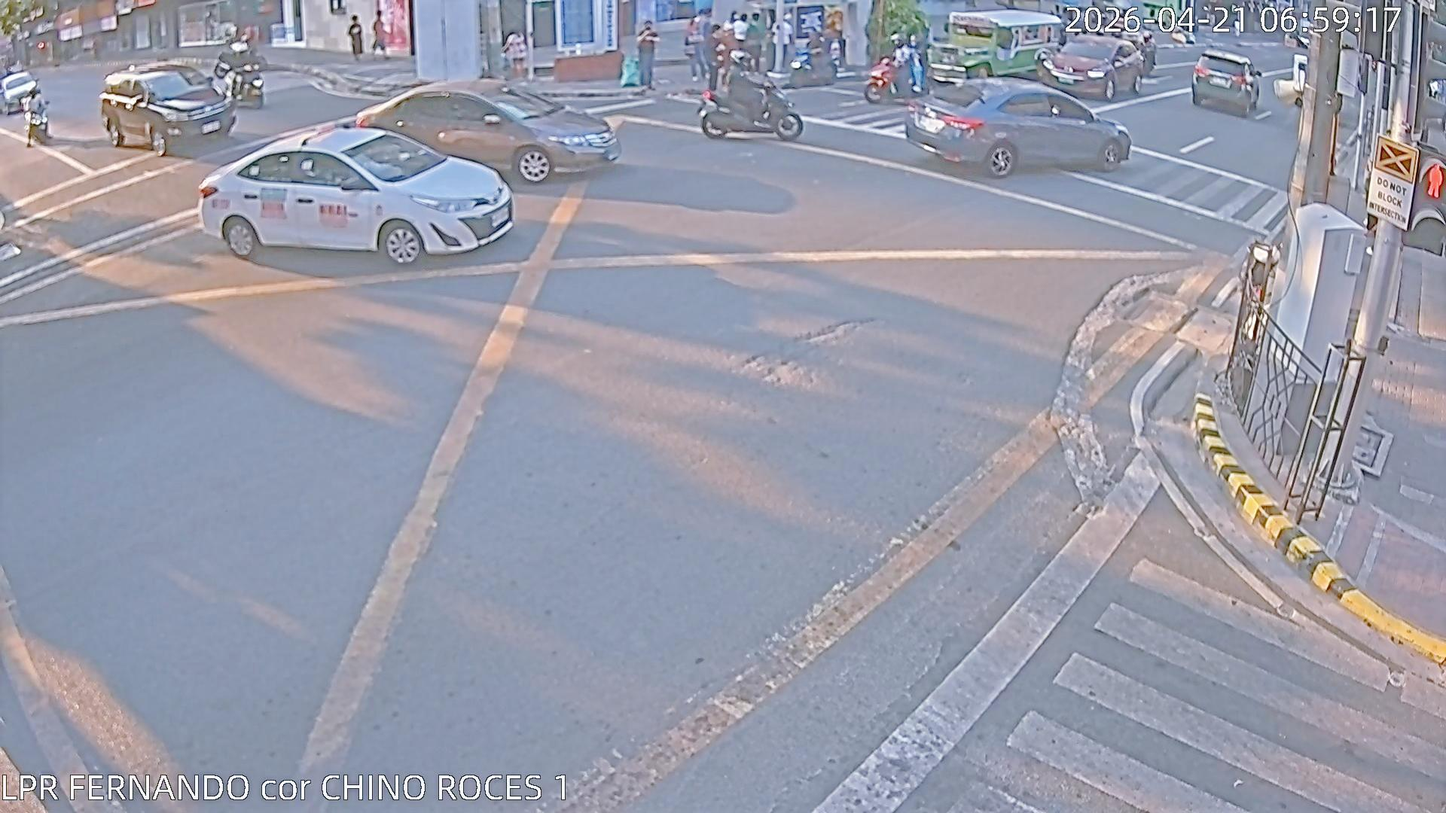Car: (198, 124, 520, 268), (356, 81, 617, 187), (907, 75, 1129, 178), (101, 64, 238, 157), (1035, 35, 1144, 102), (1191, 49, 1262, 116), (0, 70, 41, 116)
Motor: (697, 59, 798, 142), (214, 33, 266, 108), (866, 46, 928, 104), (22, 92, 51, 147)
